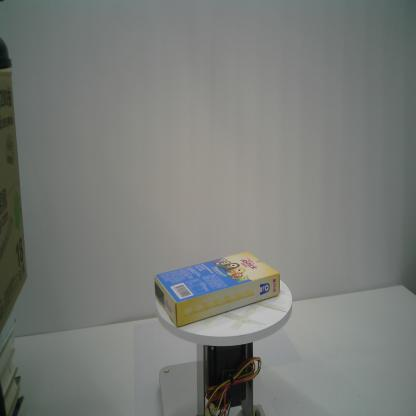Dessert: (153, 248, 282, 330)
